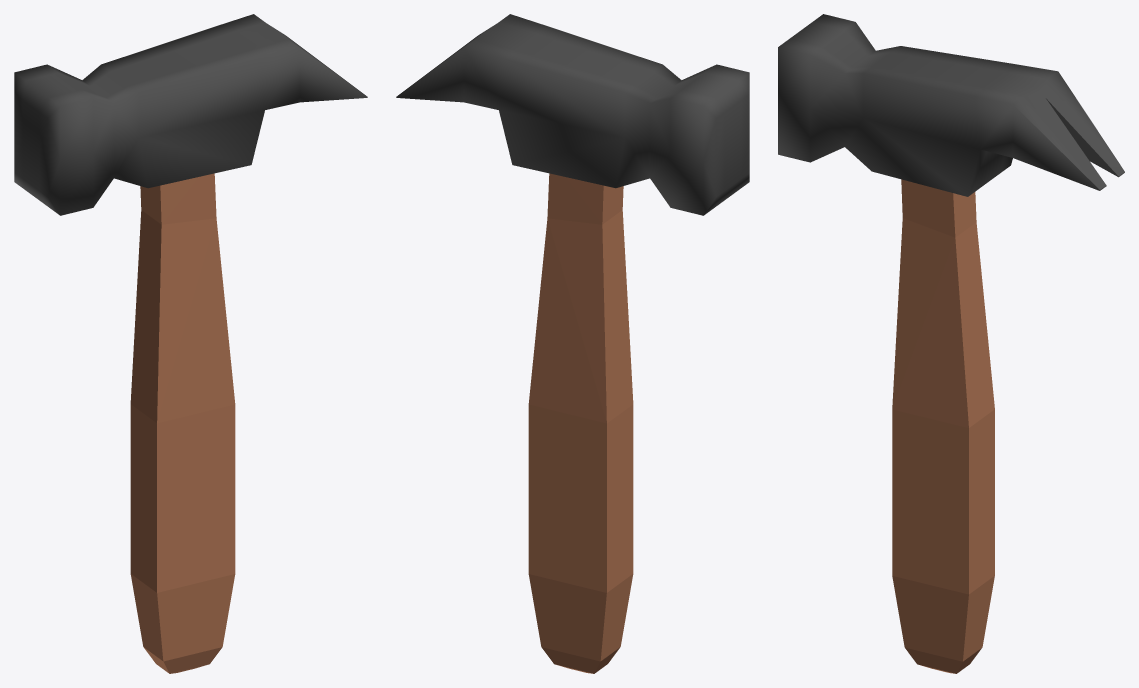
File: rat hammer.obj
3 renders of one model, left to right at view 1: azimuth 30°, elevation 25°; view 2: azimuth 150°, elevation 25°; view 3: azimuth 330°, elevation 25°, orthographic.
Parts seen in each view (by area): view 1: Cube; view 2: Cube; view 3: Cube.
Part boxes in pixels (box(x1,y1,x2,y2)): Cube: box(14, 14, 367, 673); Cube: box(396, 14, 749, 673); Cube: box(778, 14, 1124, 673).
Size of the model in its own units: 5.2 by 9.42 by 1.29.
Materials: 1 (1 with a texture image).
